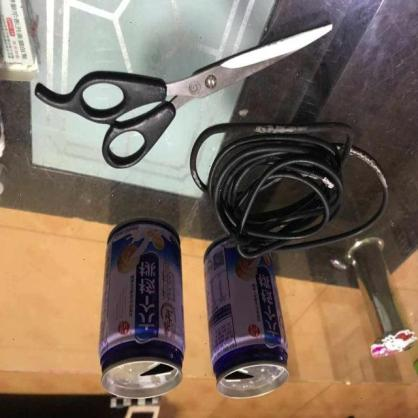can: (100, 219, 185, 400), (209, 236, 289, 397)
